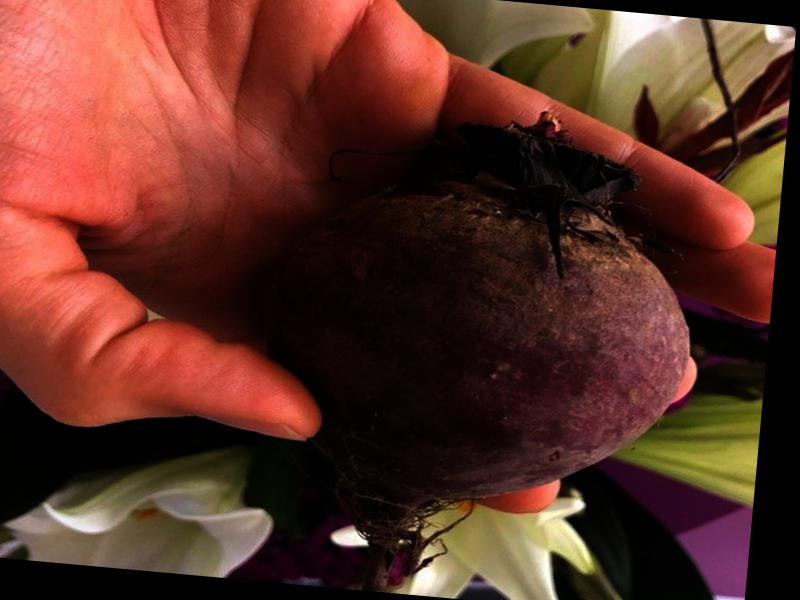Beet: (241, 91, 712, 600)
